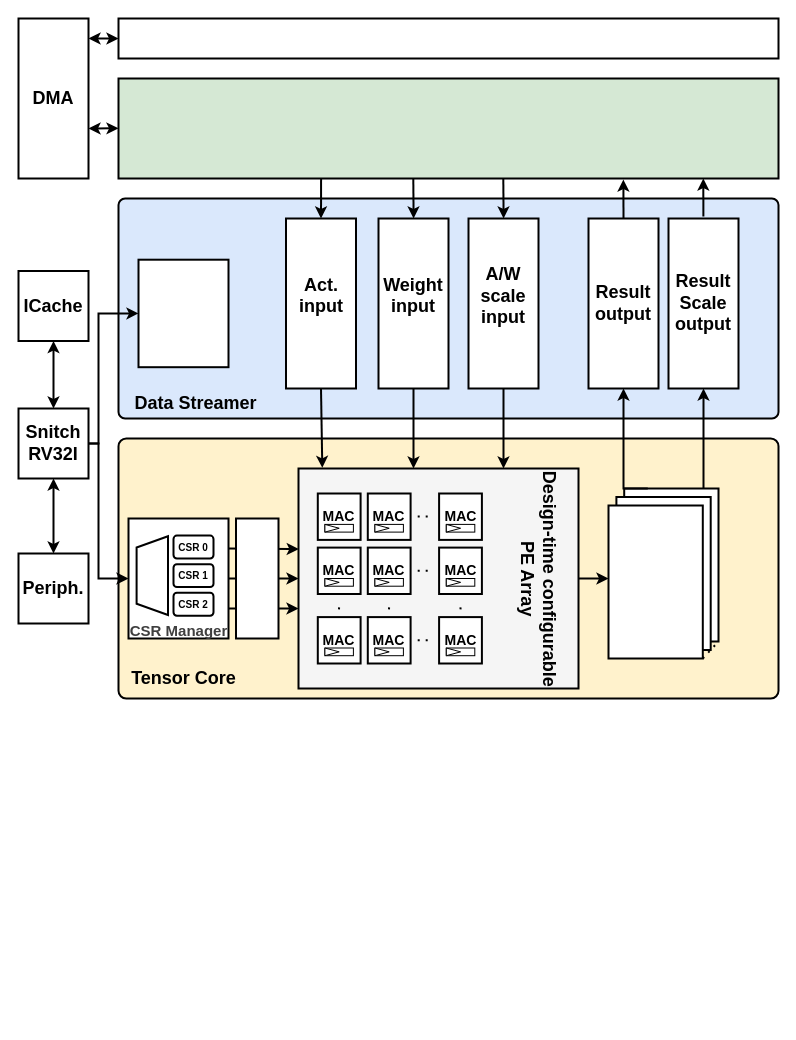
Some shapes in this 796 by 1040 pixel diagram are drawn without their labels. Here are the shapes that lost their labels. From the top down, the centre of each, then its label:
the point at 448,38: AXI/DRAM
the point at 448,128: Multi-banked ScratchPad Memory
the point at 183,313: Streamer CSR Manager
the point at 151,575: DEMUX
the point at 256,578: FSM
the point at 655,581: Re-quant Unit
